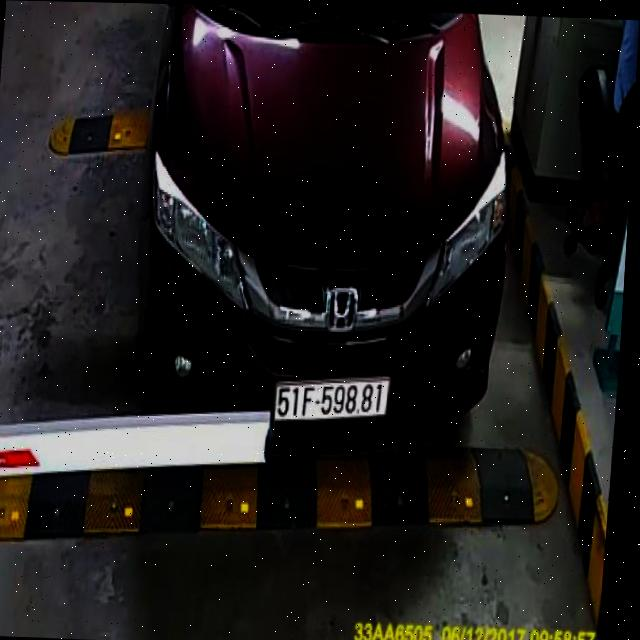car: (117, 3, 534, 459)
plate: (268, 368, 399, 429)
